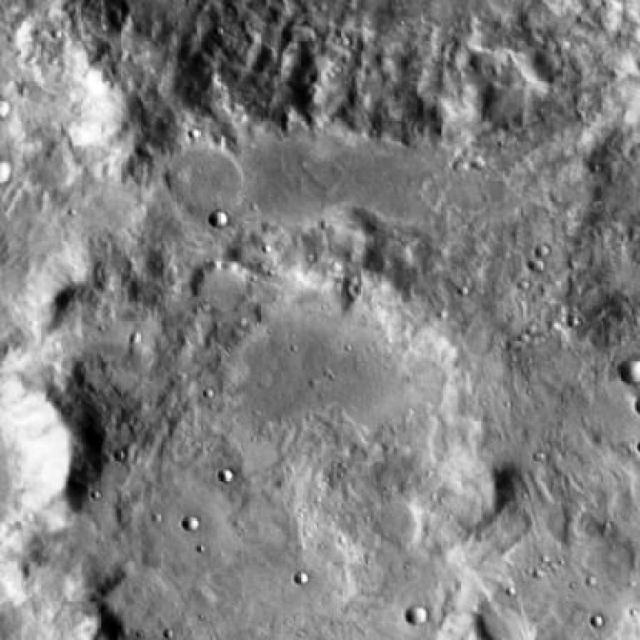crater: (110, 566, 198, 640), (163, 142, 245, 212), (376, 506, 426, 549), (428, 603, 448, 620), (208, 209, 227, 226), (0, 157, 12, 183), (0, 97, 8, 117)
